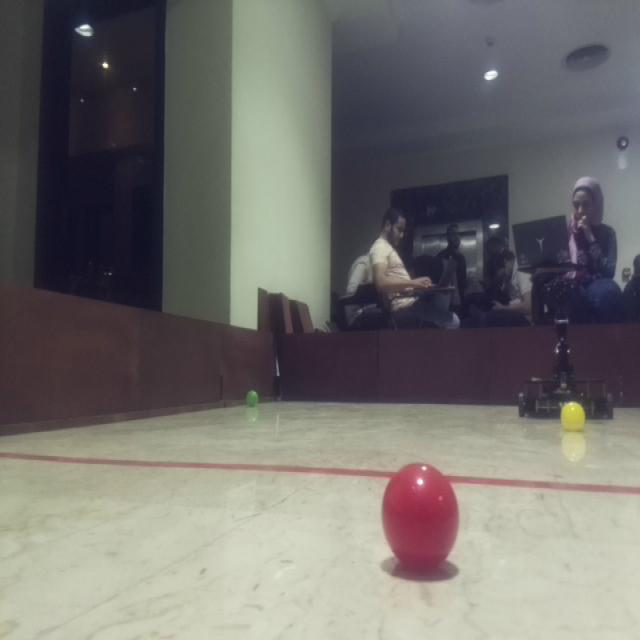ball: (382, 454, 462, 578), (558, 399, 588, 436), (242, 384, 262, 408)
